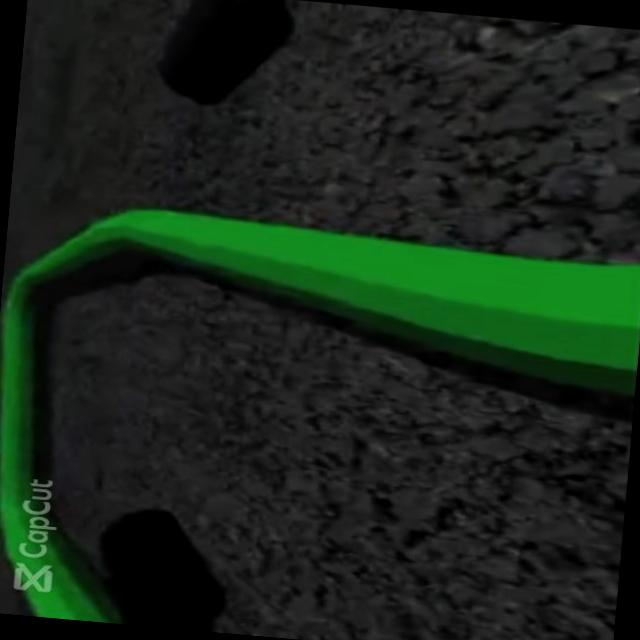gas: (101, 203, 640, 395)
